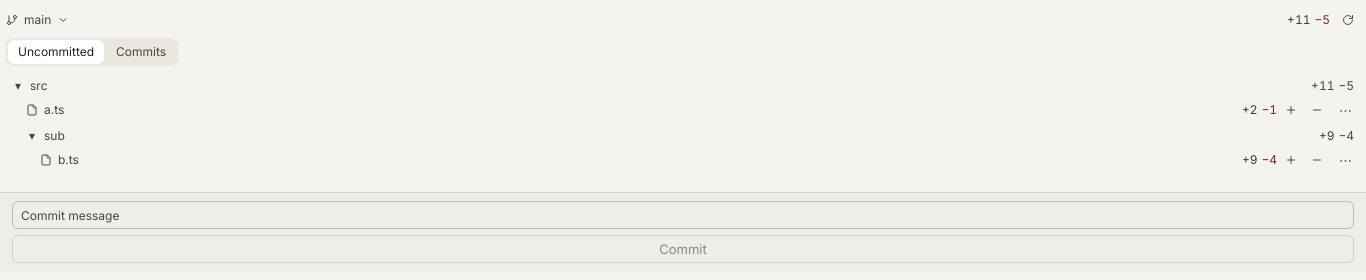
ChangesSurface R7b panel body › groups nested rows under folders with the subtree sums, collapsible by button and keys
The image size is (1366, 280).
expect the list with class "workspace-changes-tree" shows "b.ts": met, box [6,148,1240,172]
Click the button "▾ src +11 −5".
click(18, 86)  # box [6,74,1360,98]
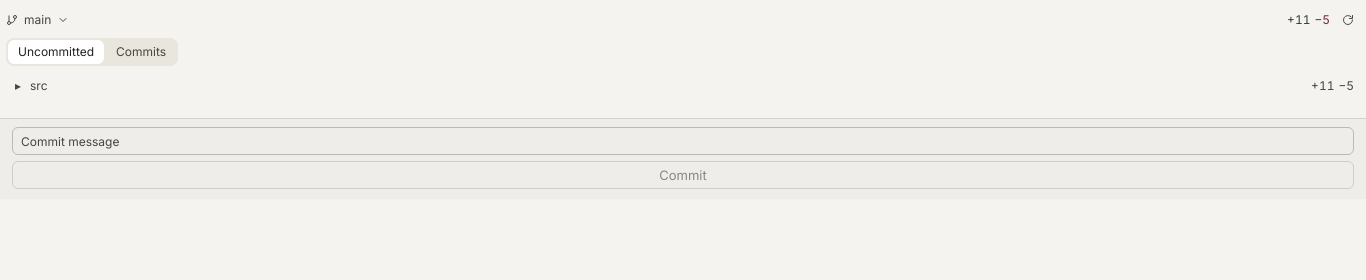
expect the button titled "src/sub/b.ts" is gone: met
expect the button "▸ src +11 −5" is collapsed: met
Click the button "▸ src +11 −5".
click(18, 86)  # box [6,74,1360,98]
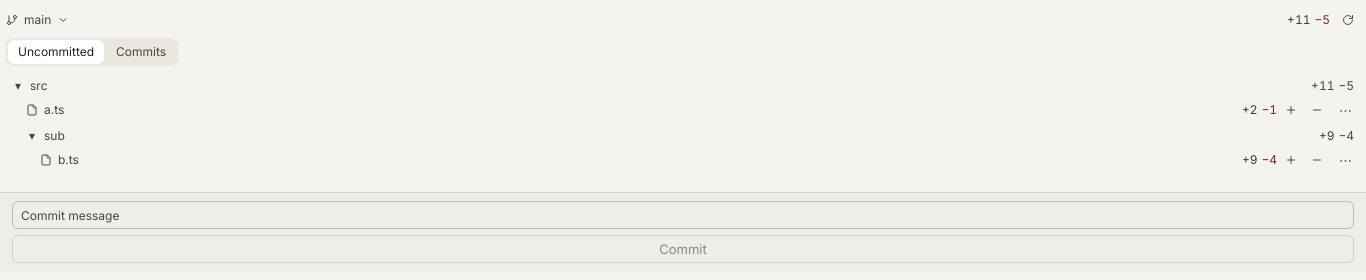
expect the button "▾ src +11 −5" is expanded: met, box [6,74,1360,98]
expect the button titled "src/sub/b.ts" is shown: met, box [6,148,1240,172]
